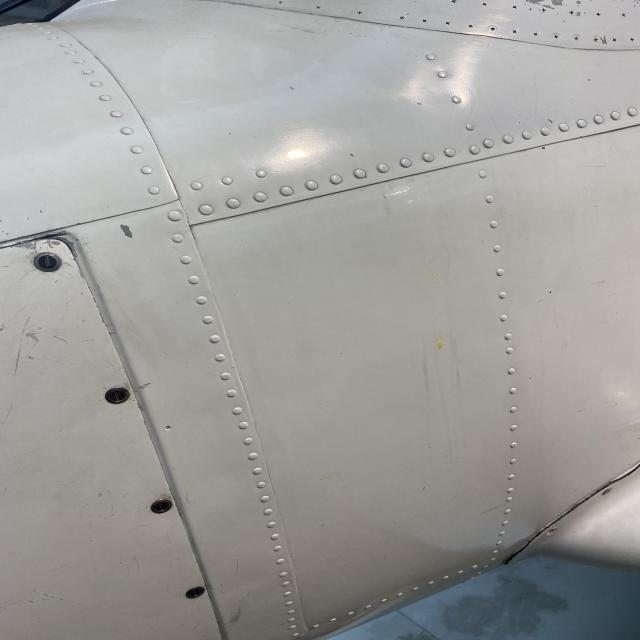Crack: (534, 494, 598, 532), (586, 451, 640, 495), (499, 530, 544, 574)
Missing_Fastener: (546, 528, 556, 536)
